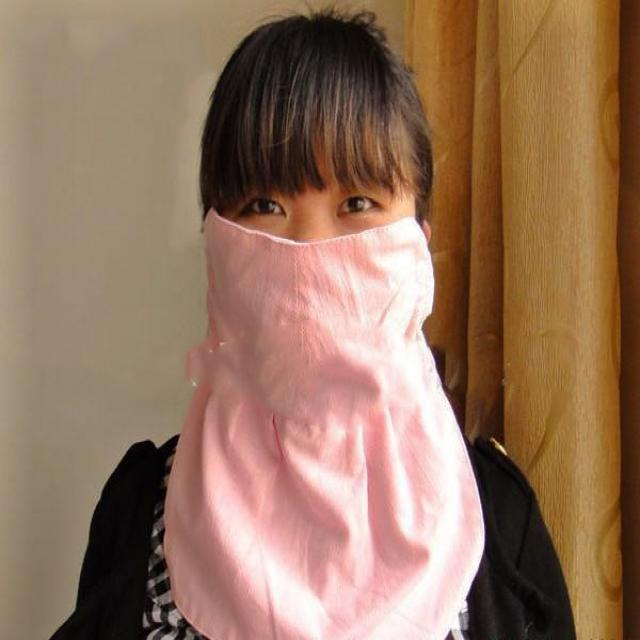mask: (210, 92, 421, 372)
